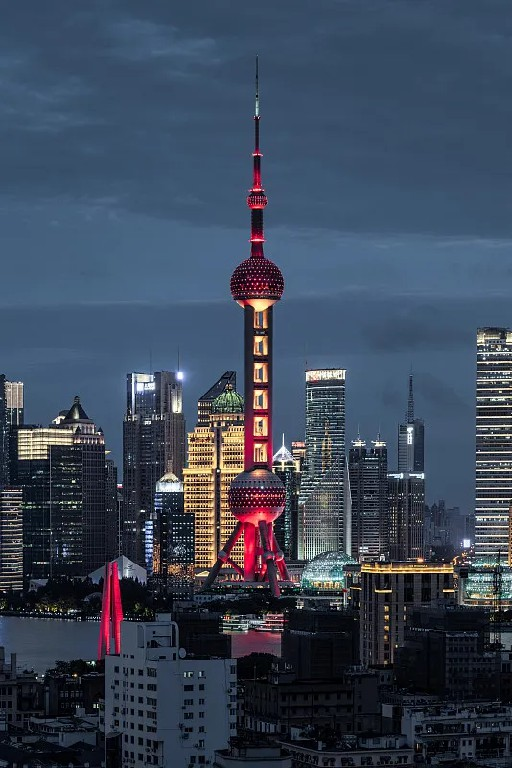Oriental: (206, 57, 286, 591)
